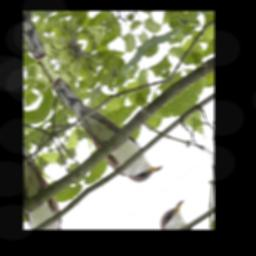Cuckoo: (49, 51, 164, 200)
